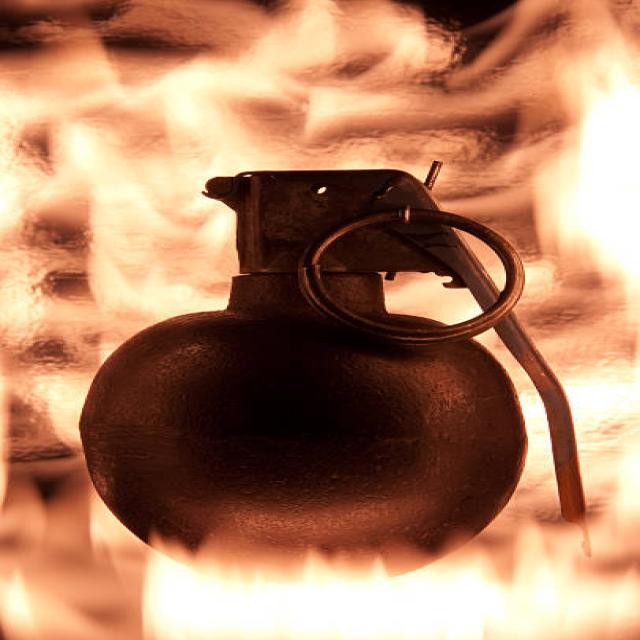grenade: (68, 155, 603, 585)
